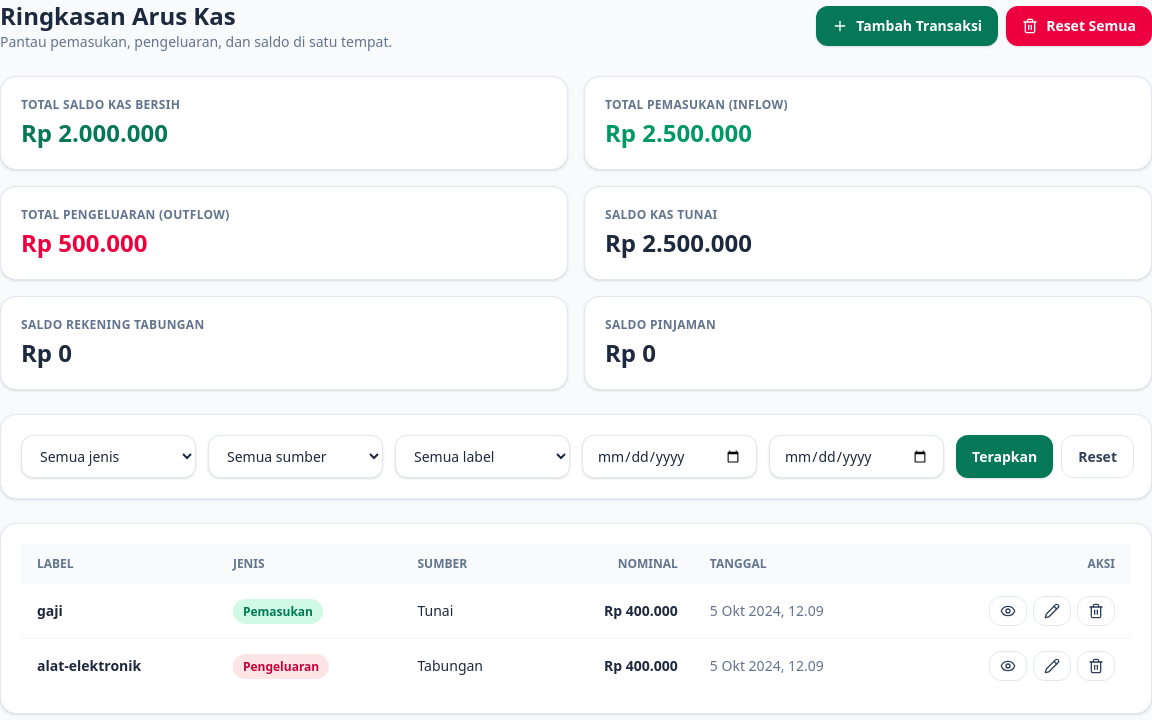
Test case: HomePage › mengubah transaksi lewat modal
Click the button named "Ubah" in the row of "gaji": coordinates (1052, 611) [1033, 596, 1071, 626]
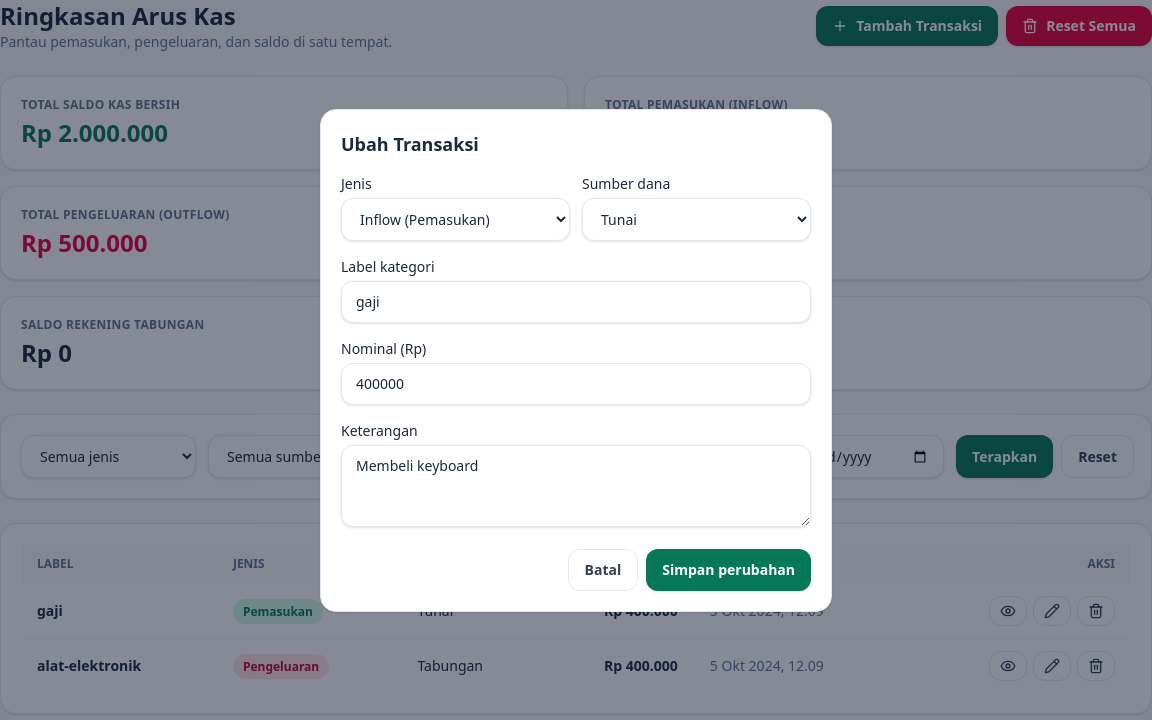
Click the button "Batal": coordinates (603, 570) [568, 548, 638, 590]
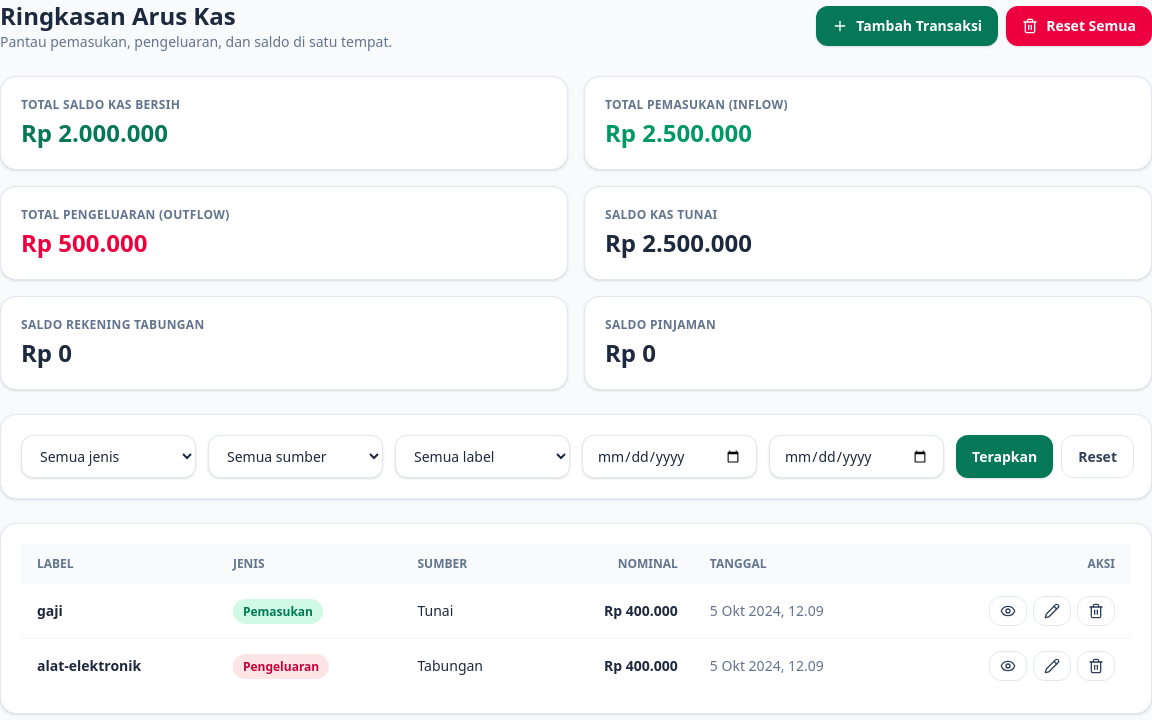
expect the dialog is gone: met
Click the button named "Ubah" in the row of "alat-elektronik": coordinates (1052, 666) [1033, 651, 1071, 681]
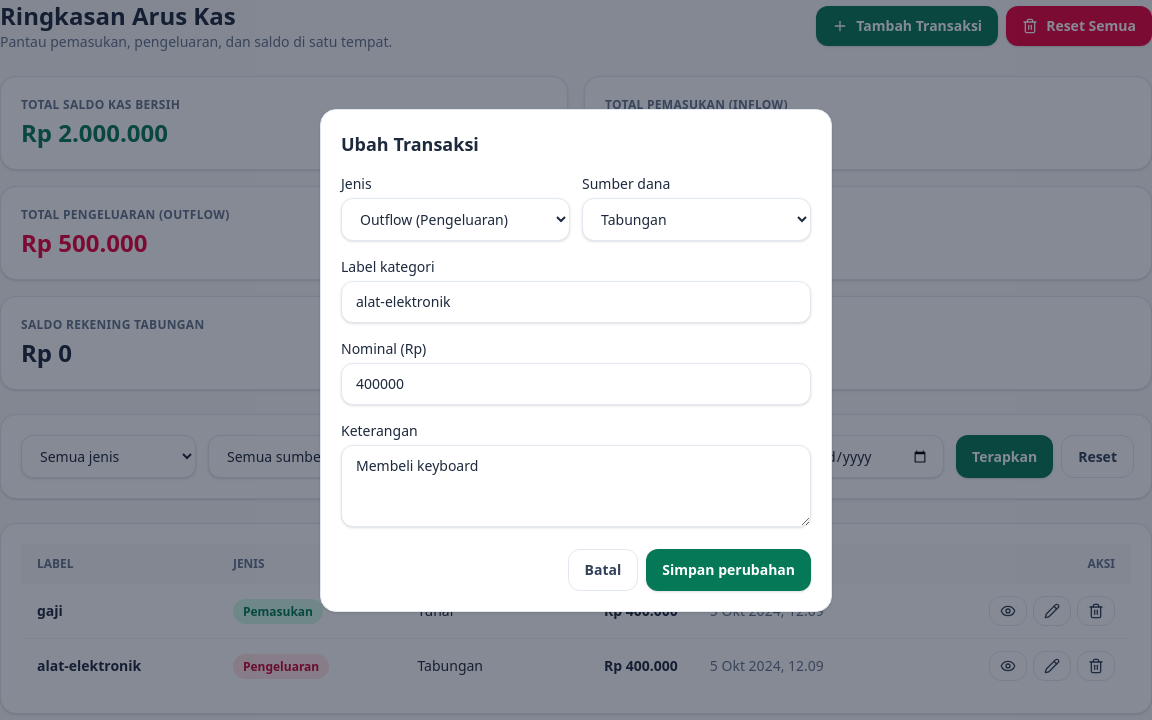
Submit the form from the button "Simpan perubahan", box [646, 548, 811, 590]
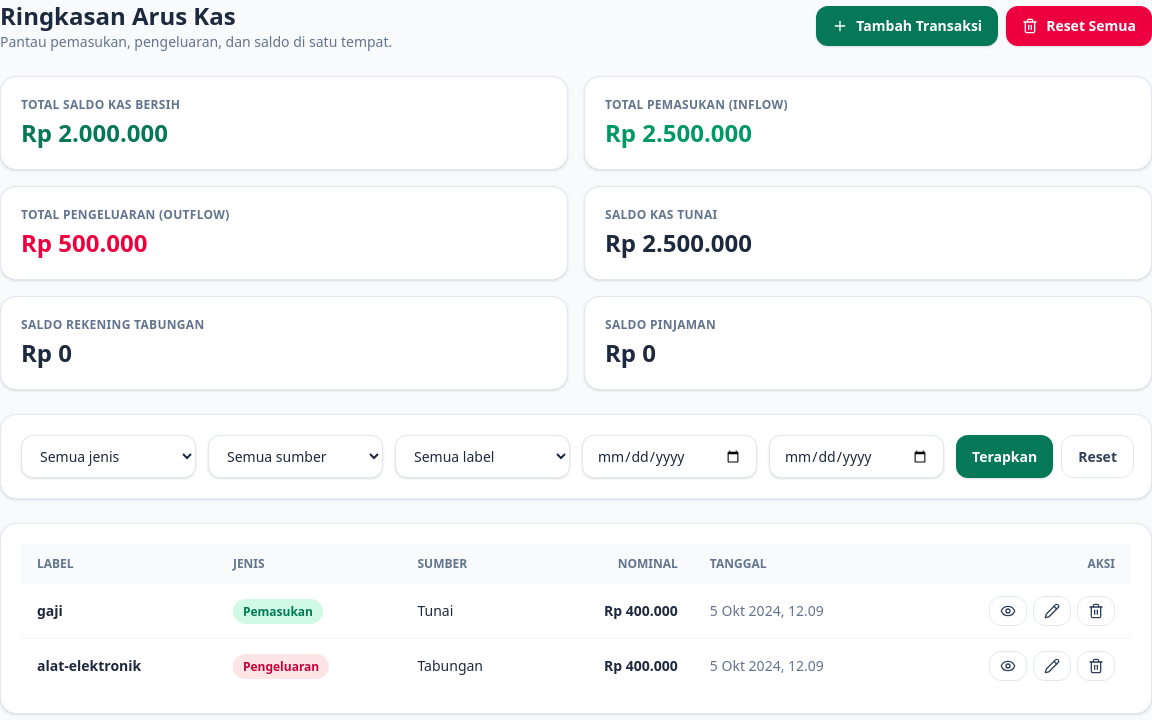
expect the dialog is gone: met
